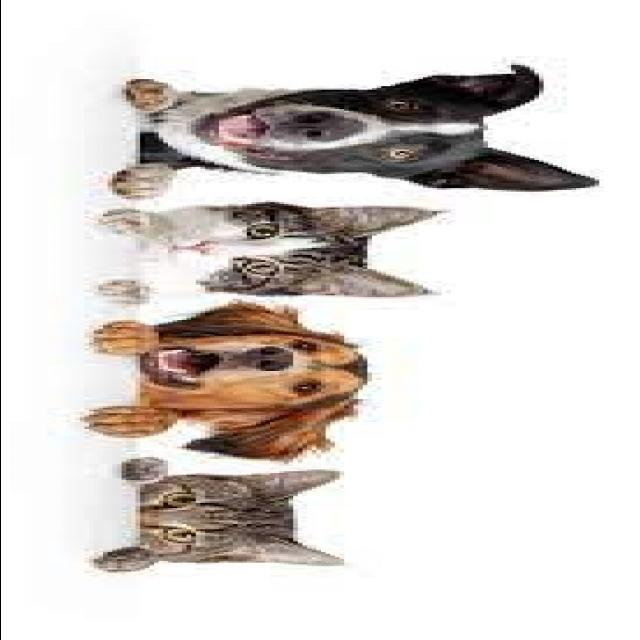cat: (83, 204, 456, 308), (86, 457, 362, 577)
dog: (97, 59, 600, 202), (75, 298, 392, 456)
